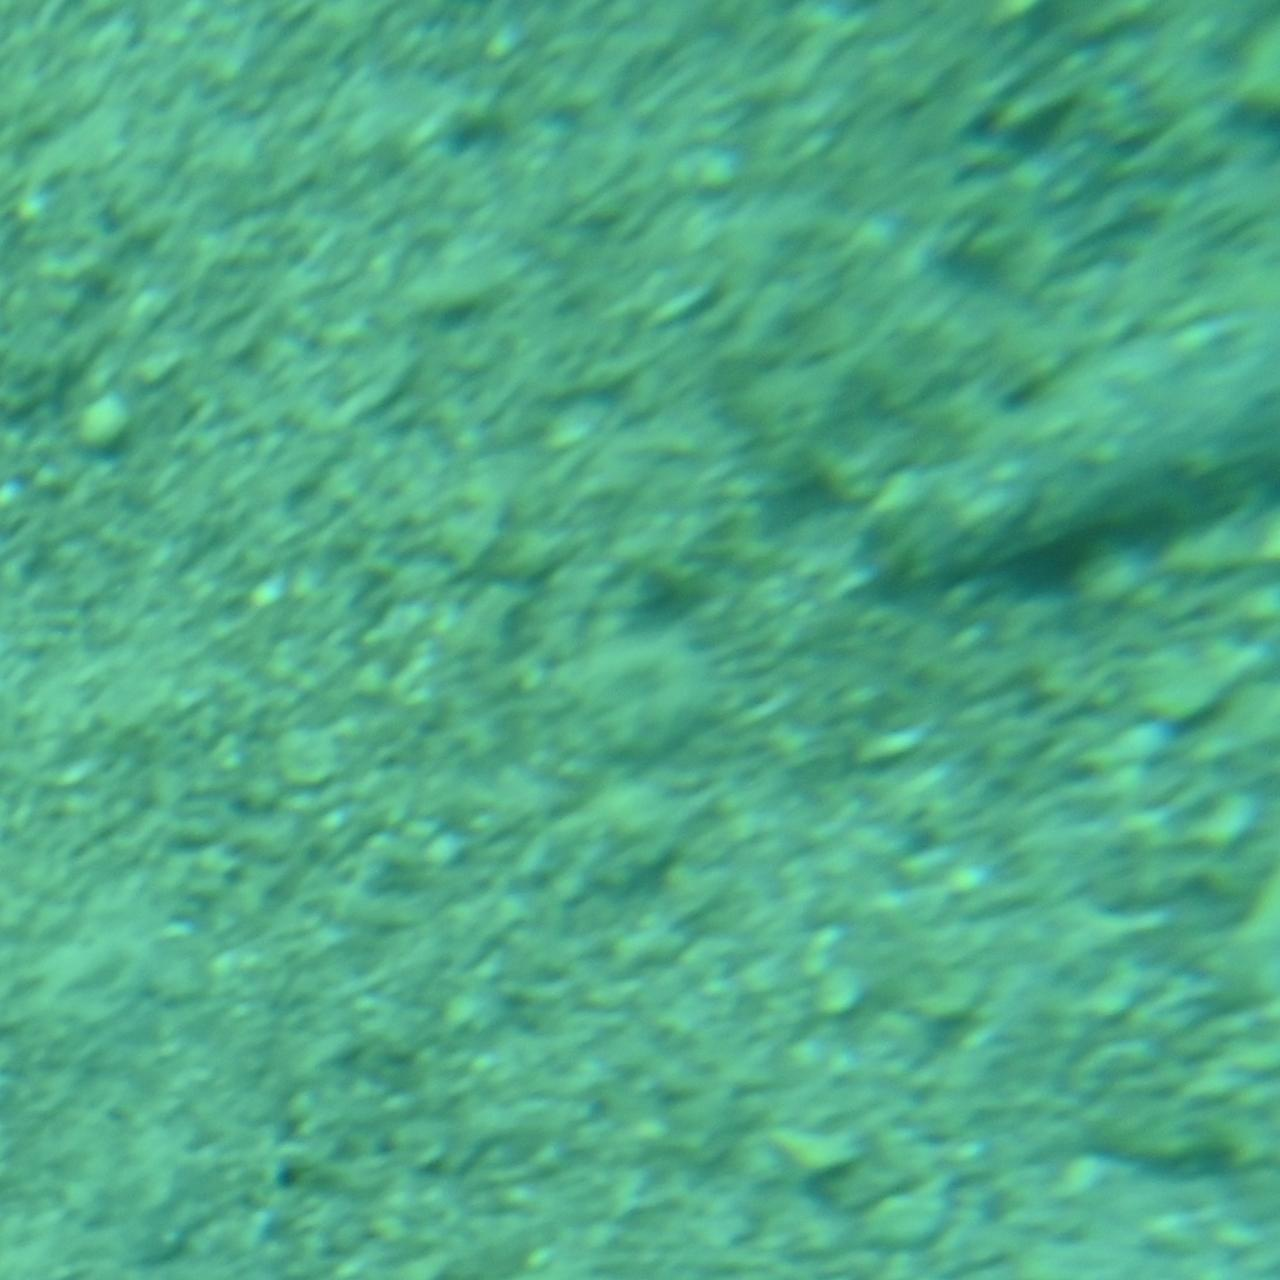Holothuria tubulosa: (835, 245, 1279, 627)
